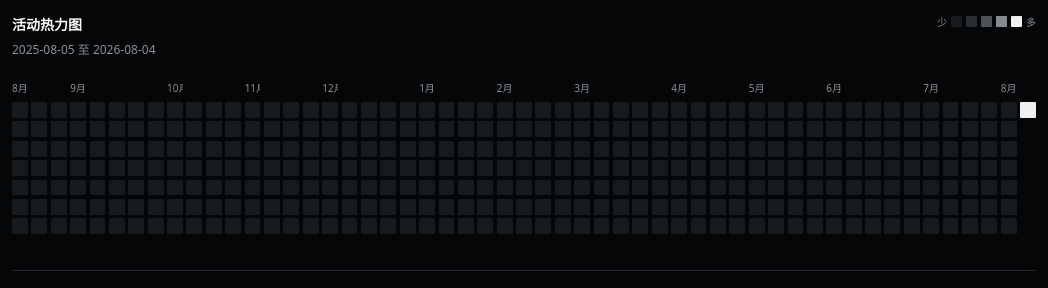
Scenario: ActivityHeatmap › renders every returned day with factual accessible labels
Hover over the cell named "2026-08-04，9 条命令，8 成功，1 失败" at point(1028, 110), box left=1020, top=102, right=1036, bottom=118
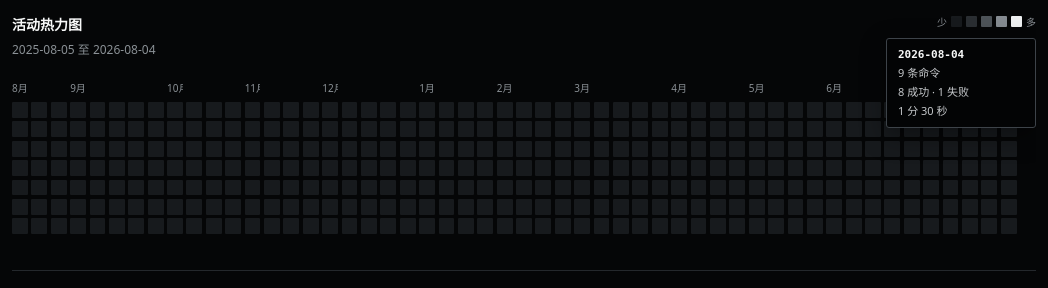
Result: the tooltip shows "1 分 30 秒" at left=898, top=103, right=948, bottom=118
